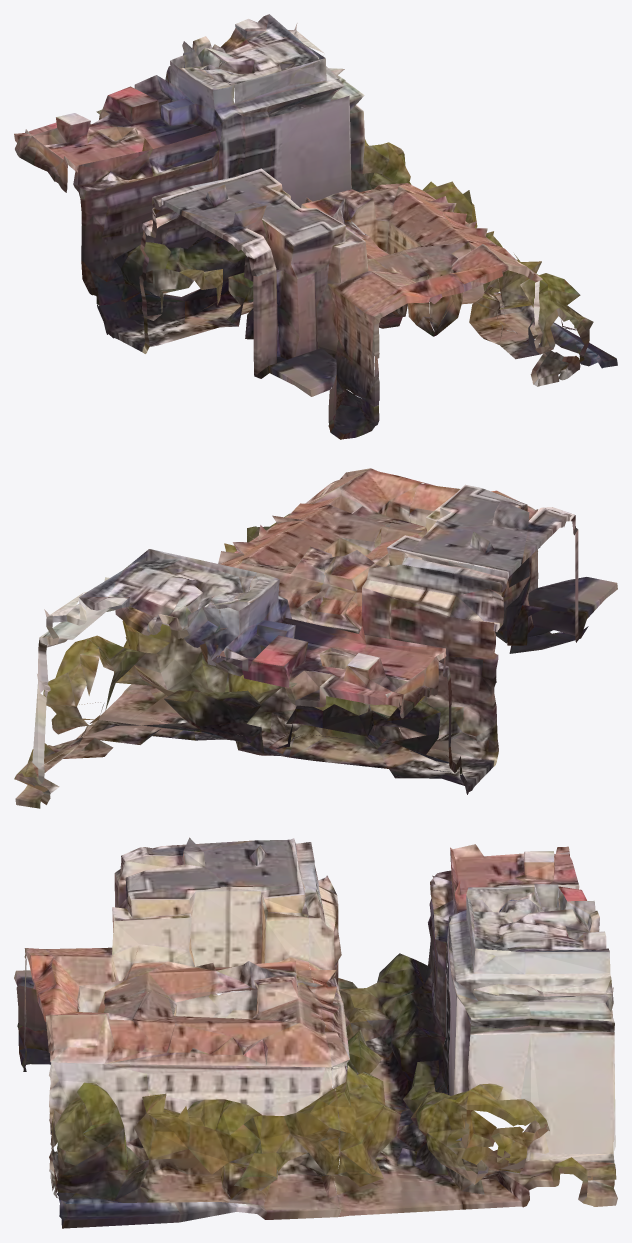
The picture shows the model from 3 angles, top to bottom: view 1: azimuth 30°, elevation 25°; view 2: azimuth 150°, elevation 25°; view 3: azimuth 270°, elevation 25°; orthographic projection. The views are drawn at different scales.
Parts seen in each view (by area): view 1: Mesh_0; view 2: Mesh_0; view 3: Mesh_0.
Part boxes in pixels (bbox=[...]): Mesh_0: bbox=[14, 14, 617, 439]; Mesh_0: bbox=[14, 468, 617, 808]; Mesh_0: bbox=[14, 837, 617, 1228].
Size of the model in its own units: 66.6 by 34.26 by 82.68.
Materials: 1 (1 with a texture image).
